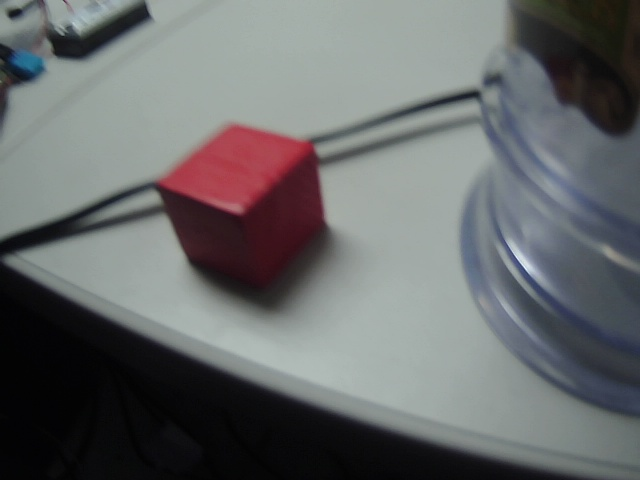redbox: (146, 118, 341, 302)
